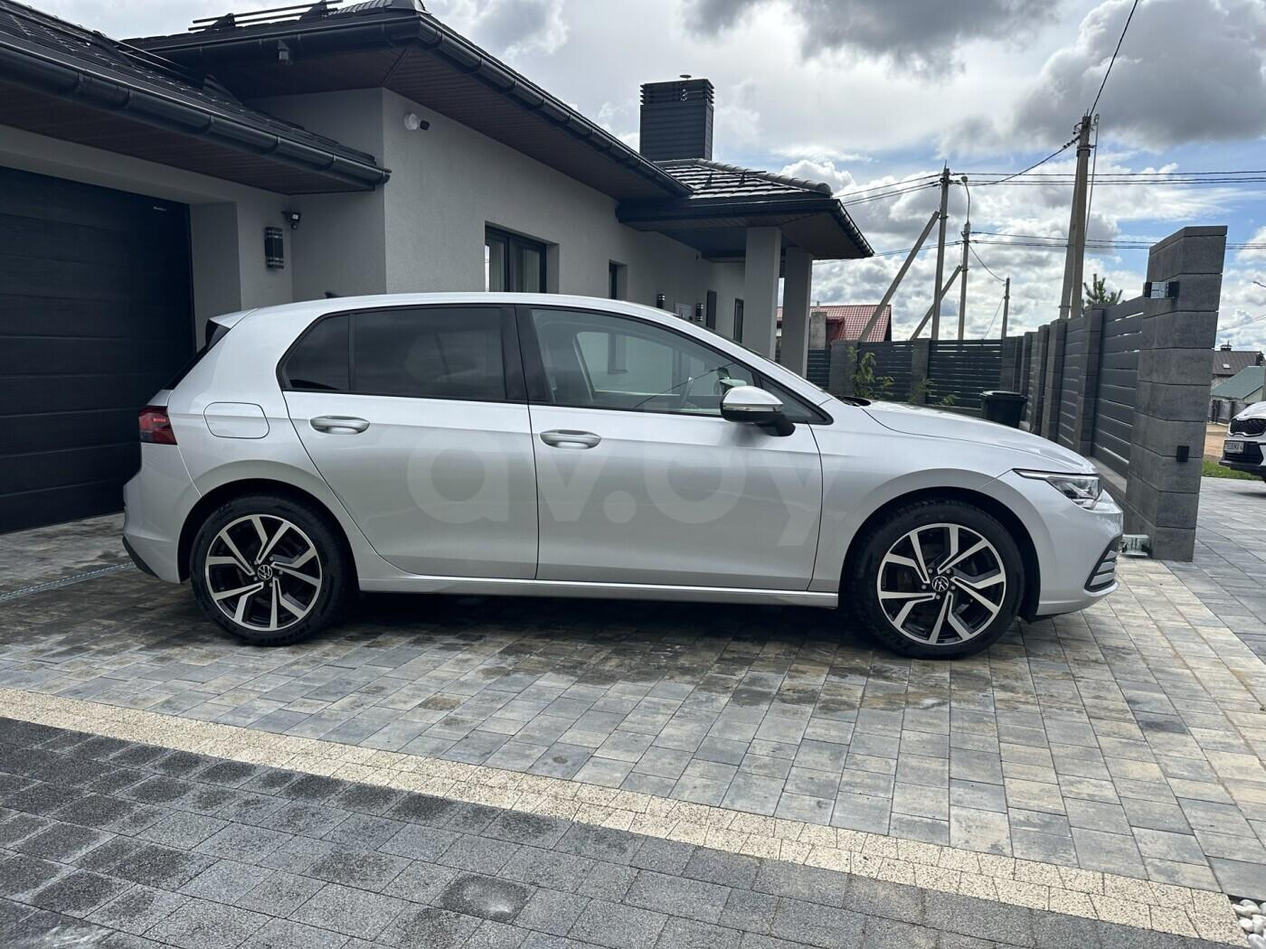Golf_2019: (115, 287, 1124, 665)
